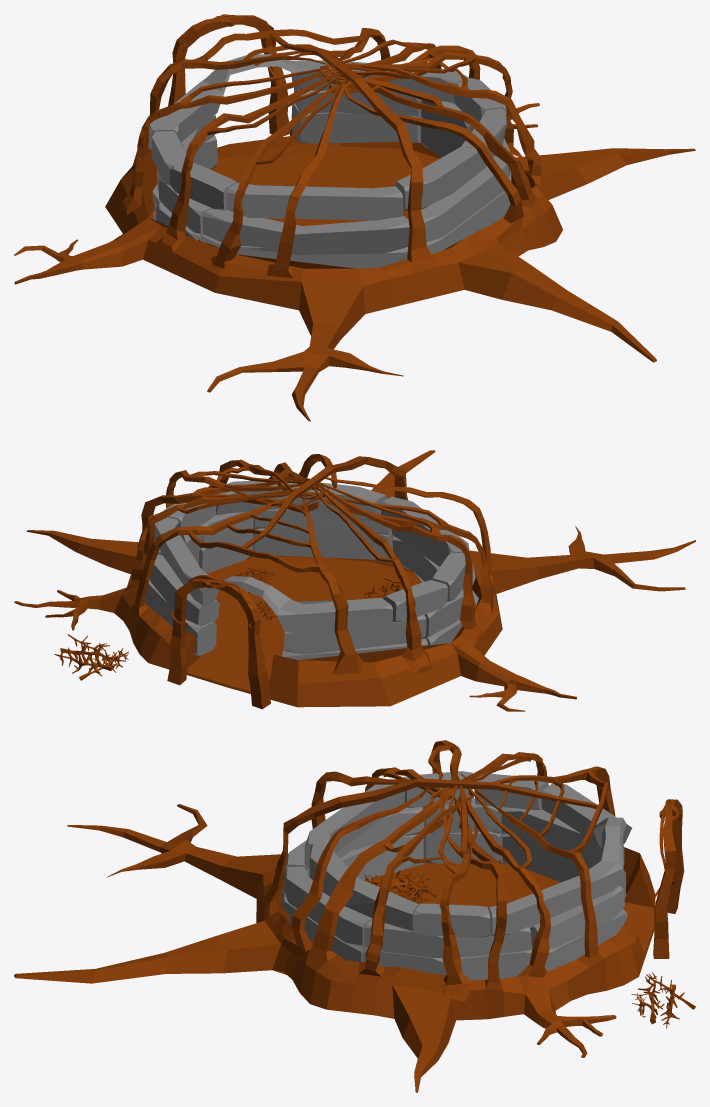
File: weaversHutSTONE.fbx
3 renders of one model, top to bottom at view 1: azimuth 30°, elevation 25°; view 2: azimuth 150°, elevation 25°; view 3: azimuth 270°, elevation 25°, orthographic. The views are drawn at different scales.
Visible parts, largest first — view 1: tree_bottom, Cube.001, Cube.002, Cube, tree_branch.008, tree_branch.003, entrance.002, tree_branch.001, tree_branch.006, tree_branch.005, tree_branch.007, tree_branch.004 (+2 smaller); view 2: tree_bottom, Cube.001, Cube.002, Cube, entrance.002, tree_branch.001, tree_branch.003, tree_branch.008, tree_branch.004, tree_branch.006, tree_branch.002, tree_branch.007 (+4 smaller); view 3: tree_bottom, Cube.001, Cube.002, Cube, tree_branch.001, entrance.002, tree_branch.002, tree_branch.007, tree_branch.005, tree_branch.004, tree_branch.003, tree_branch.008 (+2 smaller).
Boxes of the visible parts, bbox=[...] form: tree_bottom: bbox=[14, 32, 695, 421]; Cube.001: bbox=[148, 54, 506, 220]; Cube.002: bbox=[157, 86, 510, 254]; Cube: bbox=[152, 103, 511, 268]; tree_branch.008: bbox=[155, 68, 355, 251]; tree_branch.003: bbox=[120, 65, 347, 214]; entrance.002: bbox=[168, 14, 290, 135]; tree_branch.001: bbox=[267, 28, 391, 277]; tree_branch.006: bbox=[211, 78, 346, 268]; tree_branch.005: bbox=[341, 82, 523, 223]; tree_branch.007: bbox=[325, 51, 523, 158]; tree_branch.004: bbox=[132, 55, 327, 165]; tree_bottom: bbox=[14, 450, 695, 711]; Cube.001: bbox=[154, 480, 469, 633]; Cube.002: bbox=[149, 510, 475, 654]; Cube: bbox=[144, 527, 478, 660]; entrance.002: bbox=[167, 575, 270, 709]; tree_branch.001: bbox=[131, 477, 493, 615]; tree_branch.003: bbox=[304, 482, 432, 673]; tree_branch.008: bbox=[305, 478, 484, 642]; tree_branch.004: bbox=[302, 493, 363, 674]; tree_branch.006: bbox=[305, 492, 493, 614]; tree_branch.002: bbox=[122, 486, 328, 594]; tree_branch.007: bbox=[166, 470, 323, 508]; tree_bottom: bbox=[14, 773, 655, 1092]; Cube.001: bbox=[304, 771, 631, 937]; Cube.002: bbox=[284, 798, 624, 958]; Cube: bbox=[282, 832, 627, 980]; tree_branch.001: bbox=[311, 771, 604, 967]; entrance.002: bbox=[653, 799, 684, 958]; tree_branch.002: bbox=[457, 776, 550, 993]; tree_branch.007: bbox=[438, 776, 472, 1001]; tree_branch.005: bbox=[291, 787, 429, 953]; tree_branch.004: bbox=[491, 766, 623, 846]; tree_branch.003: bbox=[456, 752, 547, 789]; tree_branch.008: bbox=[428, 740, 461, 791].
Bounding box in the file's own units: 324 × 82.67 × 302.
